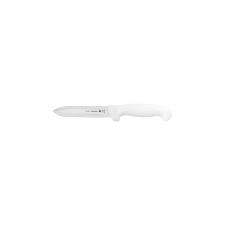Knife: (52, 102, 172, 121)
